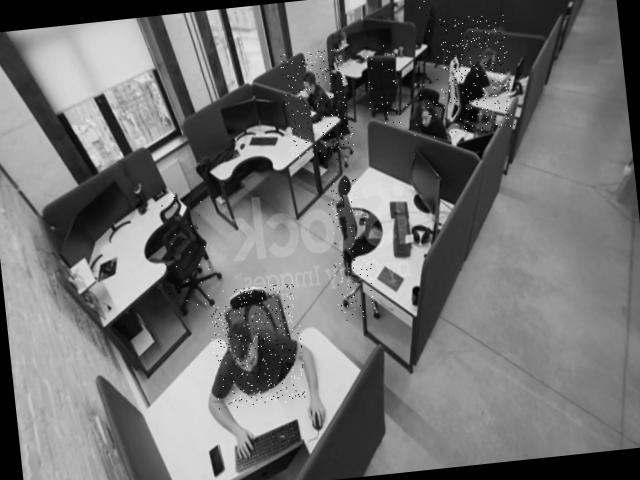empty chair: (324, 178, 378, 323), (158, 188, 214, 316), (359, 39, 402, 128), (409, 0, 444, 79)
occupiedchair: (206, 282, 308, 410), (434, 11, 516, 134), (280, 48, 356, 164), (404, 75, 454, 141)
